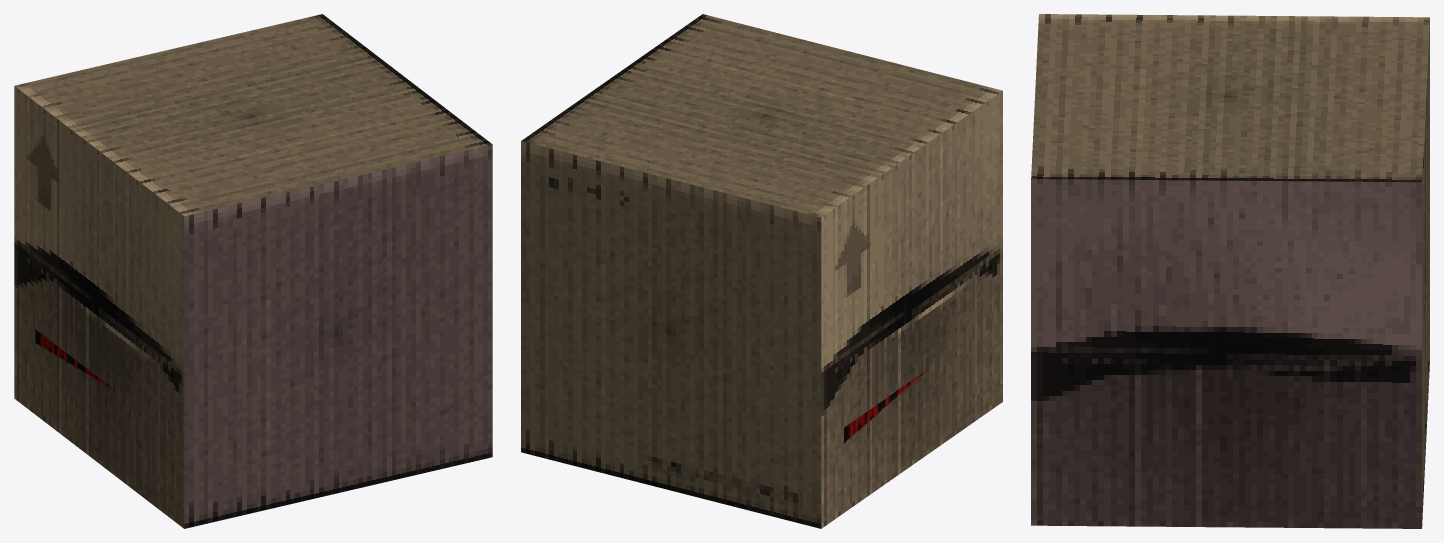
Rendered from primary_084.glb.
3 renders of one model, left to right at view 1: azimuth 30°, elevation 25°; view 2: azimuth 150°, elevation 25°; view 3: azimuth 270°, elevation 25°, orthographic. The views are drawn at different scales.
Visible parts, largest first — view 1: Object; view 2: Object; view 3: Object.
Part boxes in pixels (box(x1,y1,x2,y2)): Object: box(14, 14, 492, 528); Object: box(521, 14, 1002, 528); Object: box(1031, 14, 1429, 528).
Size of the model in its own units: 1.12 by 1.07 by 1.12.
7 materials, 7 textured.
